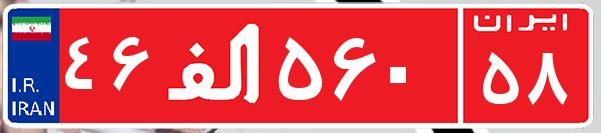0: (385, 28, 445, 110)
4: (57, 26, 110, 107)
5: (273, 28, 330, 110), (475, 38, 525, 113)
6: (330, 28, 385, 110), (110, 28, 158, 105)
8: (525, 38, 570, 115)
الف: (158, 15, 273, 115)
